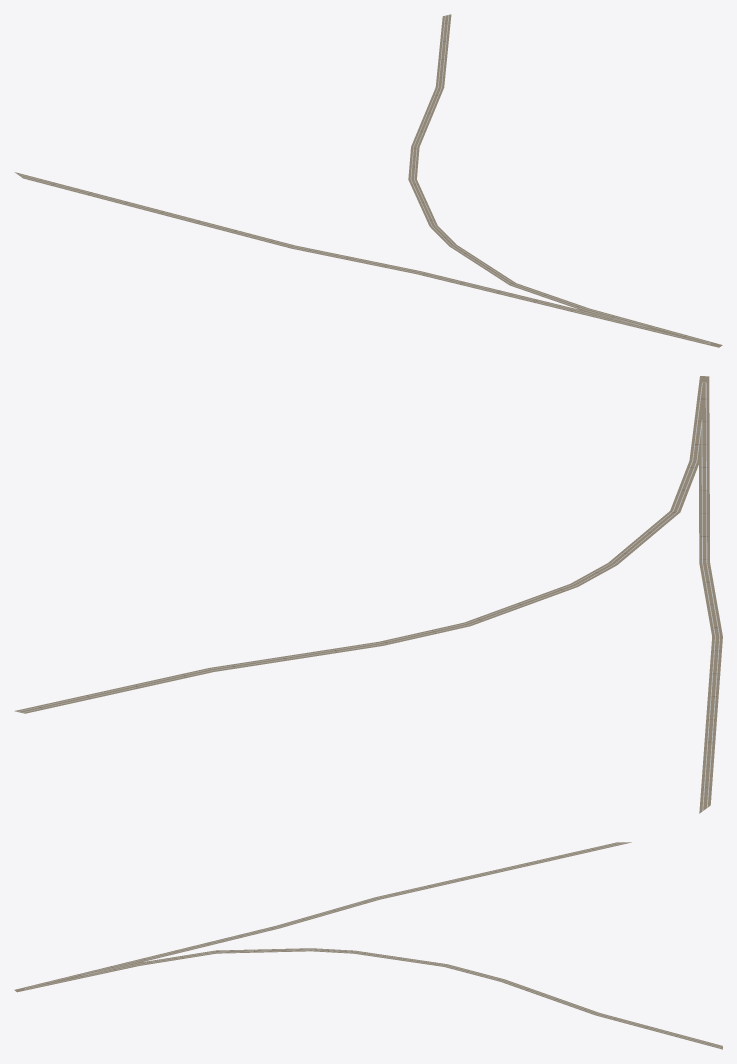
The picture shows the model from 3 angles, top to bottom: view 1: azimuth 30°, elevation 25°; view 2: azimuth 150°, elevation 25°; view 3: azimuth 270°, elevation 25°; orthographic projection. The views are drawn at different scales.
Parts seen in each view (by area): view 1: rail; view 2: rail; view 3: rail.
Boxes of the visible parts, x1,y1,x2,y2 form: rail: (14, 14, 722, 347); rail: (14, 376, 722, 813); rail: (14, 842, 722, 1049).
Bounding box in the file's own units: 238 × 0.04 × 344.
